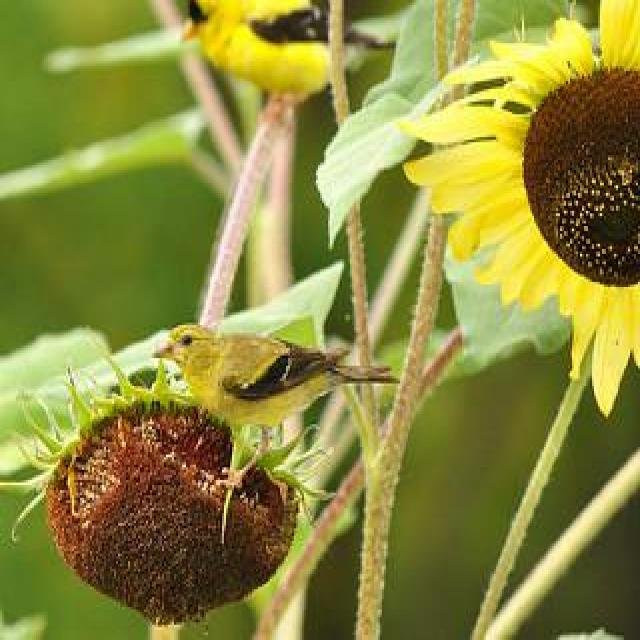sunflower: (398, 0, 640, 412), (48, 404, 299, 620)
